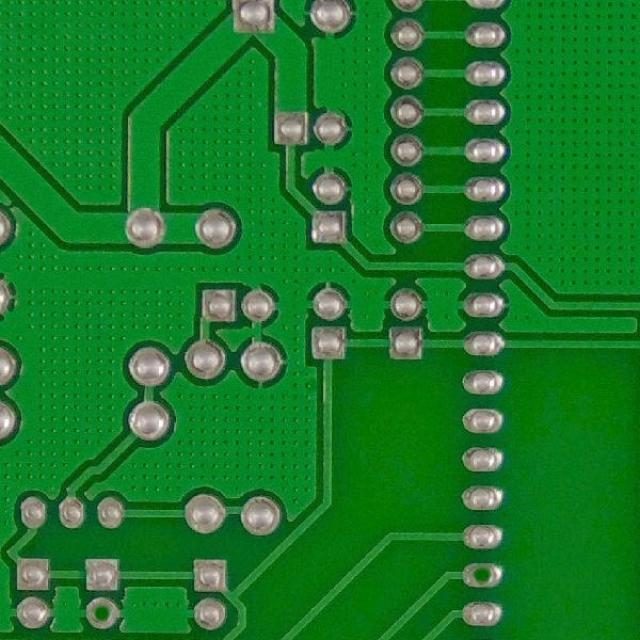Missing_Hole: (458, 561, 510, 592), (83, 594, 119, 632)
